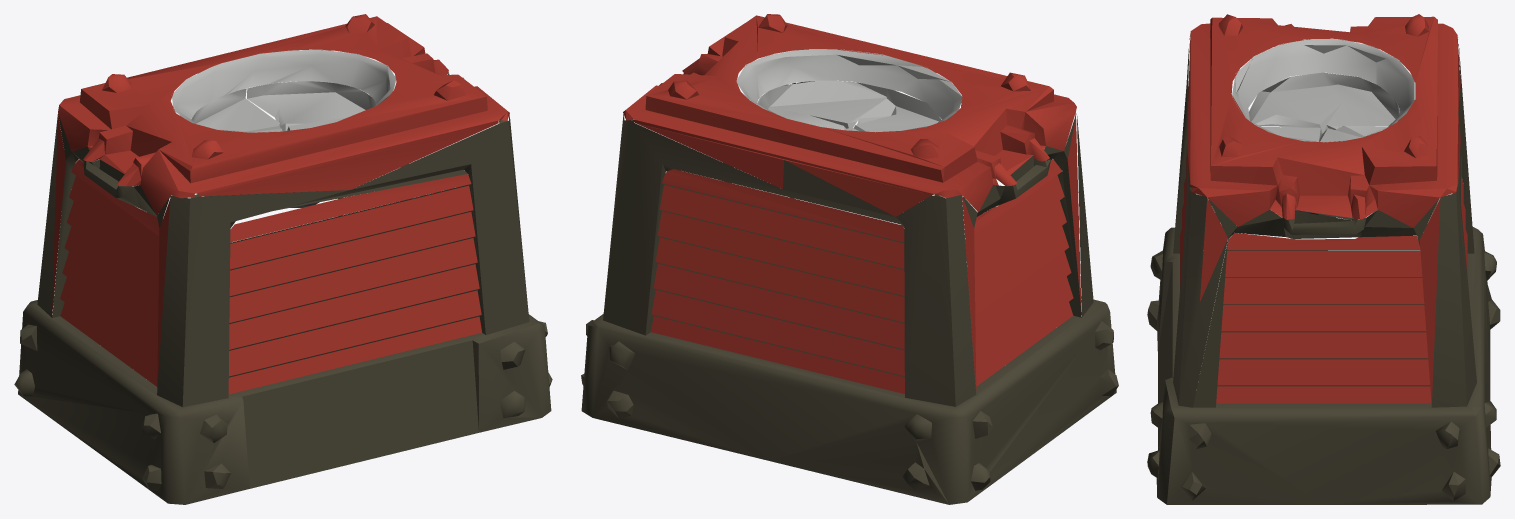
File: passive-provider-chest.glb
The picture shows the model from 3 angles, left to right: view 1: azimuth 30°, elevation 25°; view 2: azimuth 150°, elevation 25°; view 3: azimuth 270°, elevation 25°; orthographic projection. The views are drawn at different scales.
Visible parts, largest first — view 1: body, anim_hatch_e, anim_hatch_w; view 2: body, anim_hatch_e, anim_hatch_w; view 3: body, anim_hatch_w, anim_hatch_e.
Boxes of the visible parts, left/top/right/bottom form: body: left=14, top=14, right=552, bottom=504; anim_hatch_e: left=247, top=81, right=375, bottom=131; anim_hatch_w: left=191, top=88, right=282, bottom=132; body: left=581, top=14, right=1118, bottom=504; anim_hatch_e: left=757, top=80, right=886, bottom=129; anim_hatch_w: left=844, top=88, right=941, bottom=132; body: left=1147, top=14, right=1500, bottom=504; anim_hatch_w: left=1249, top=72, right=1399, bottom=134; anim_hatch_e: left=1262, top=125, right=1388, bottom=142.
Size of the model in its own units: 1.01 by 0.7617 by 0.7356.
